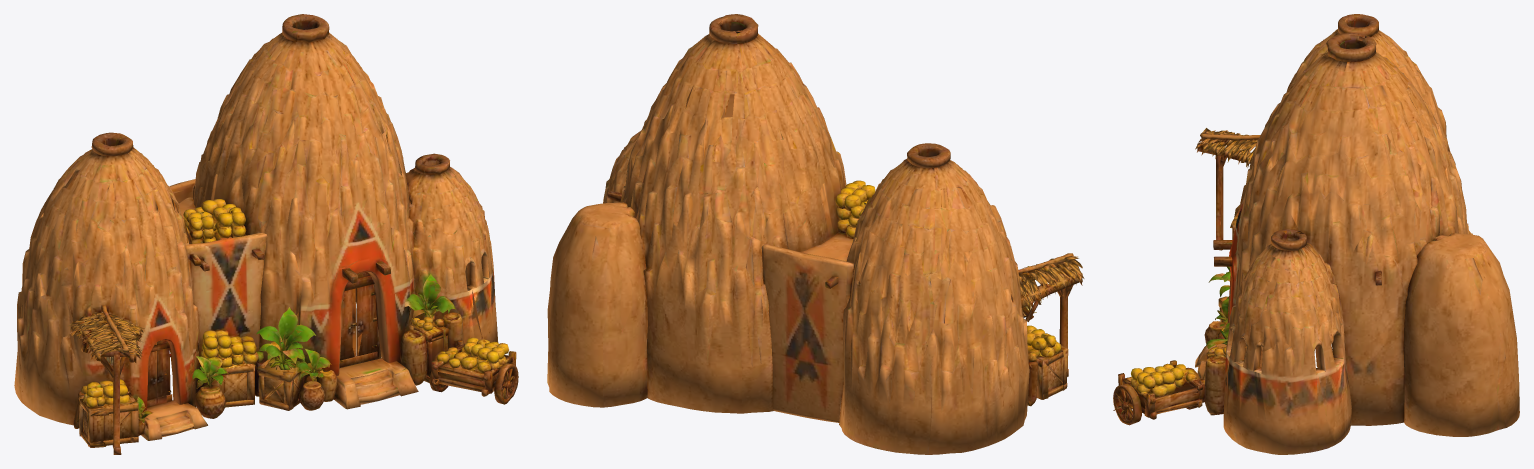
The model's file is musgum.glb.
3 renders of one model, left to right at view 1: azimuth 30°, elevation 25°; view 2: azimuth 150°, elevation 25°; view 3: azimuth 270°, elevation 25°, orthographic. The views are drawn at different scales.
Bounding box in the file's own units: 0.957 × 0.687 × 0.7534.
1 material, 1 textured.
